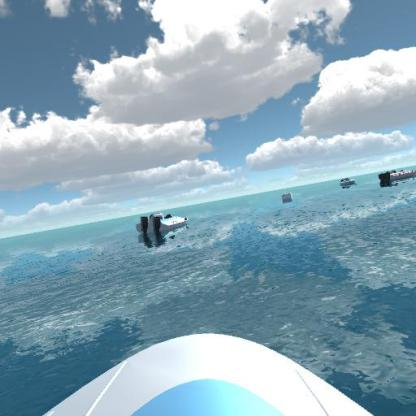usv1: (127, 206, 191, 242), (337, 173, 359, 191)
usv3: (375, 162, 415, 191)
